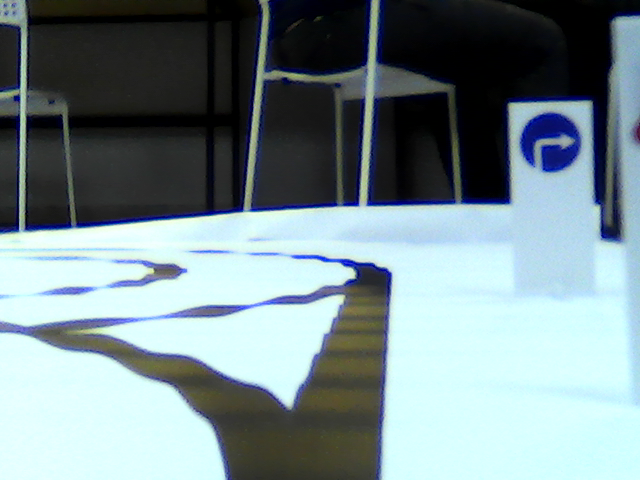Right: (520, 111, 582, 171)
